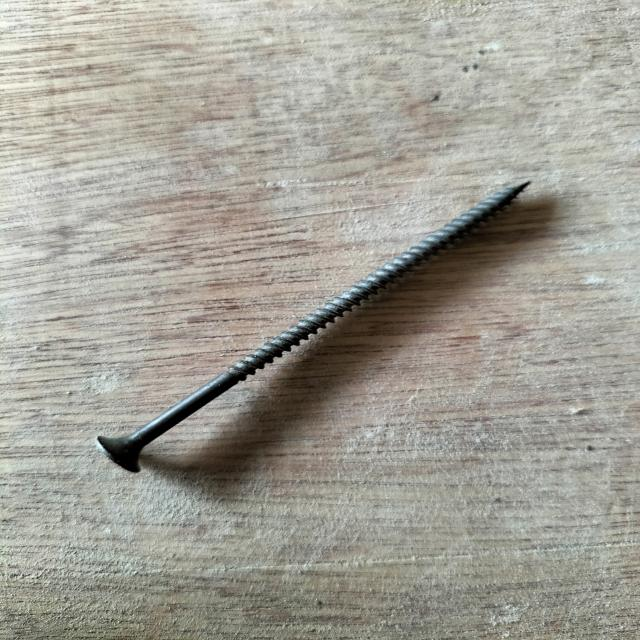screw: (98, 180, 534, 473)
